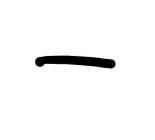minus: (34, 54, 114, 72)
